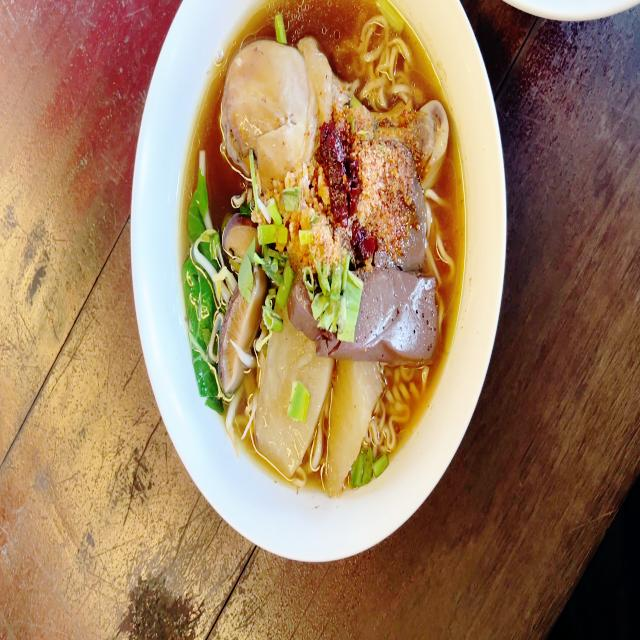boiled_chicken_blood_jelly: (300, 273, 436, 357)
chicken_drumstick: (220, 40, 444, 183)
daikon_radish: (268, 336, 376, 471)
noodle: (172, 0, 466, 506)
